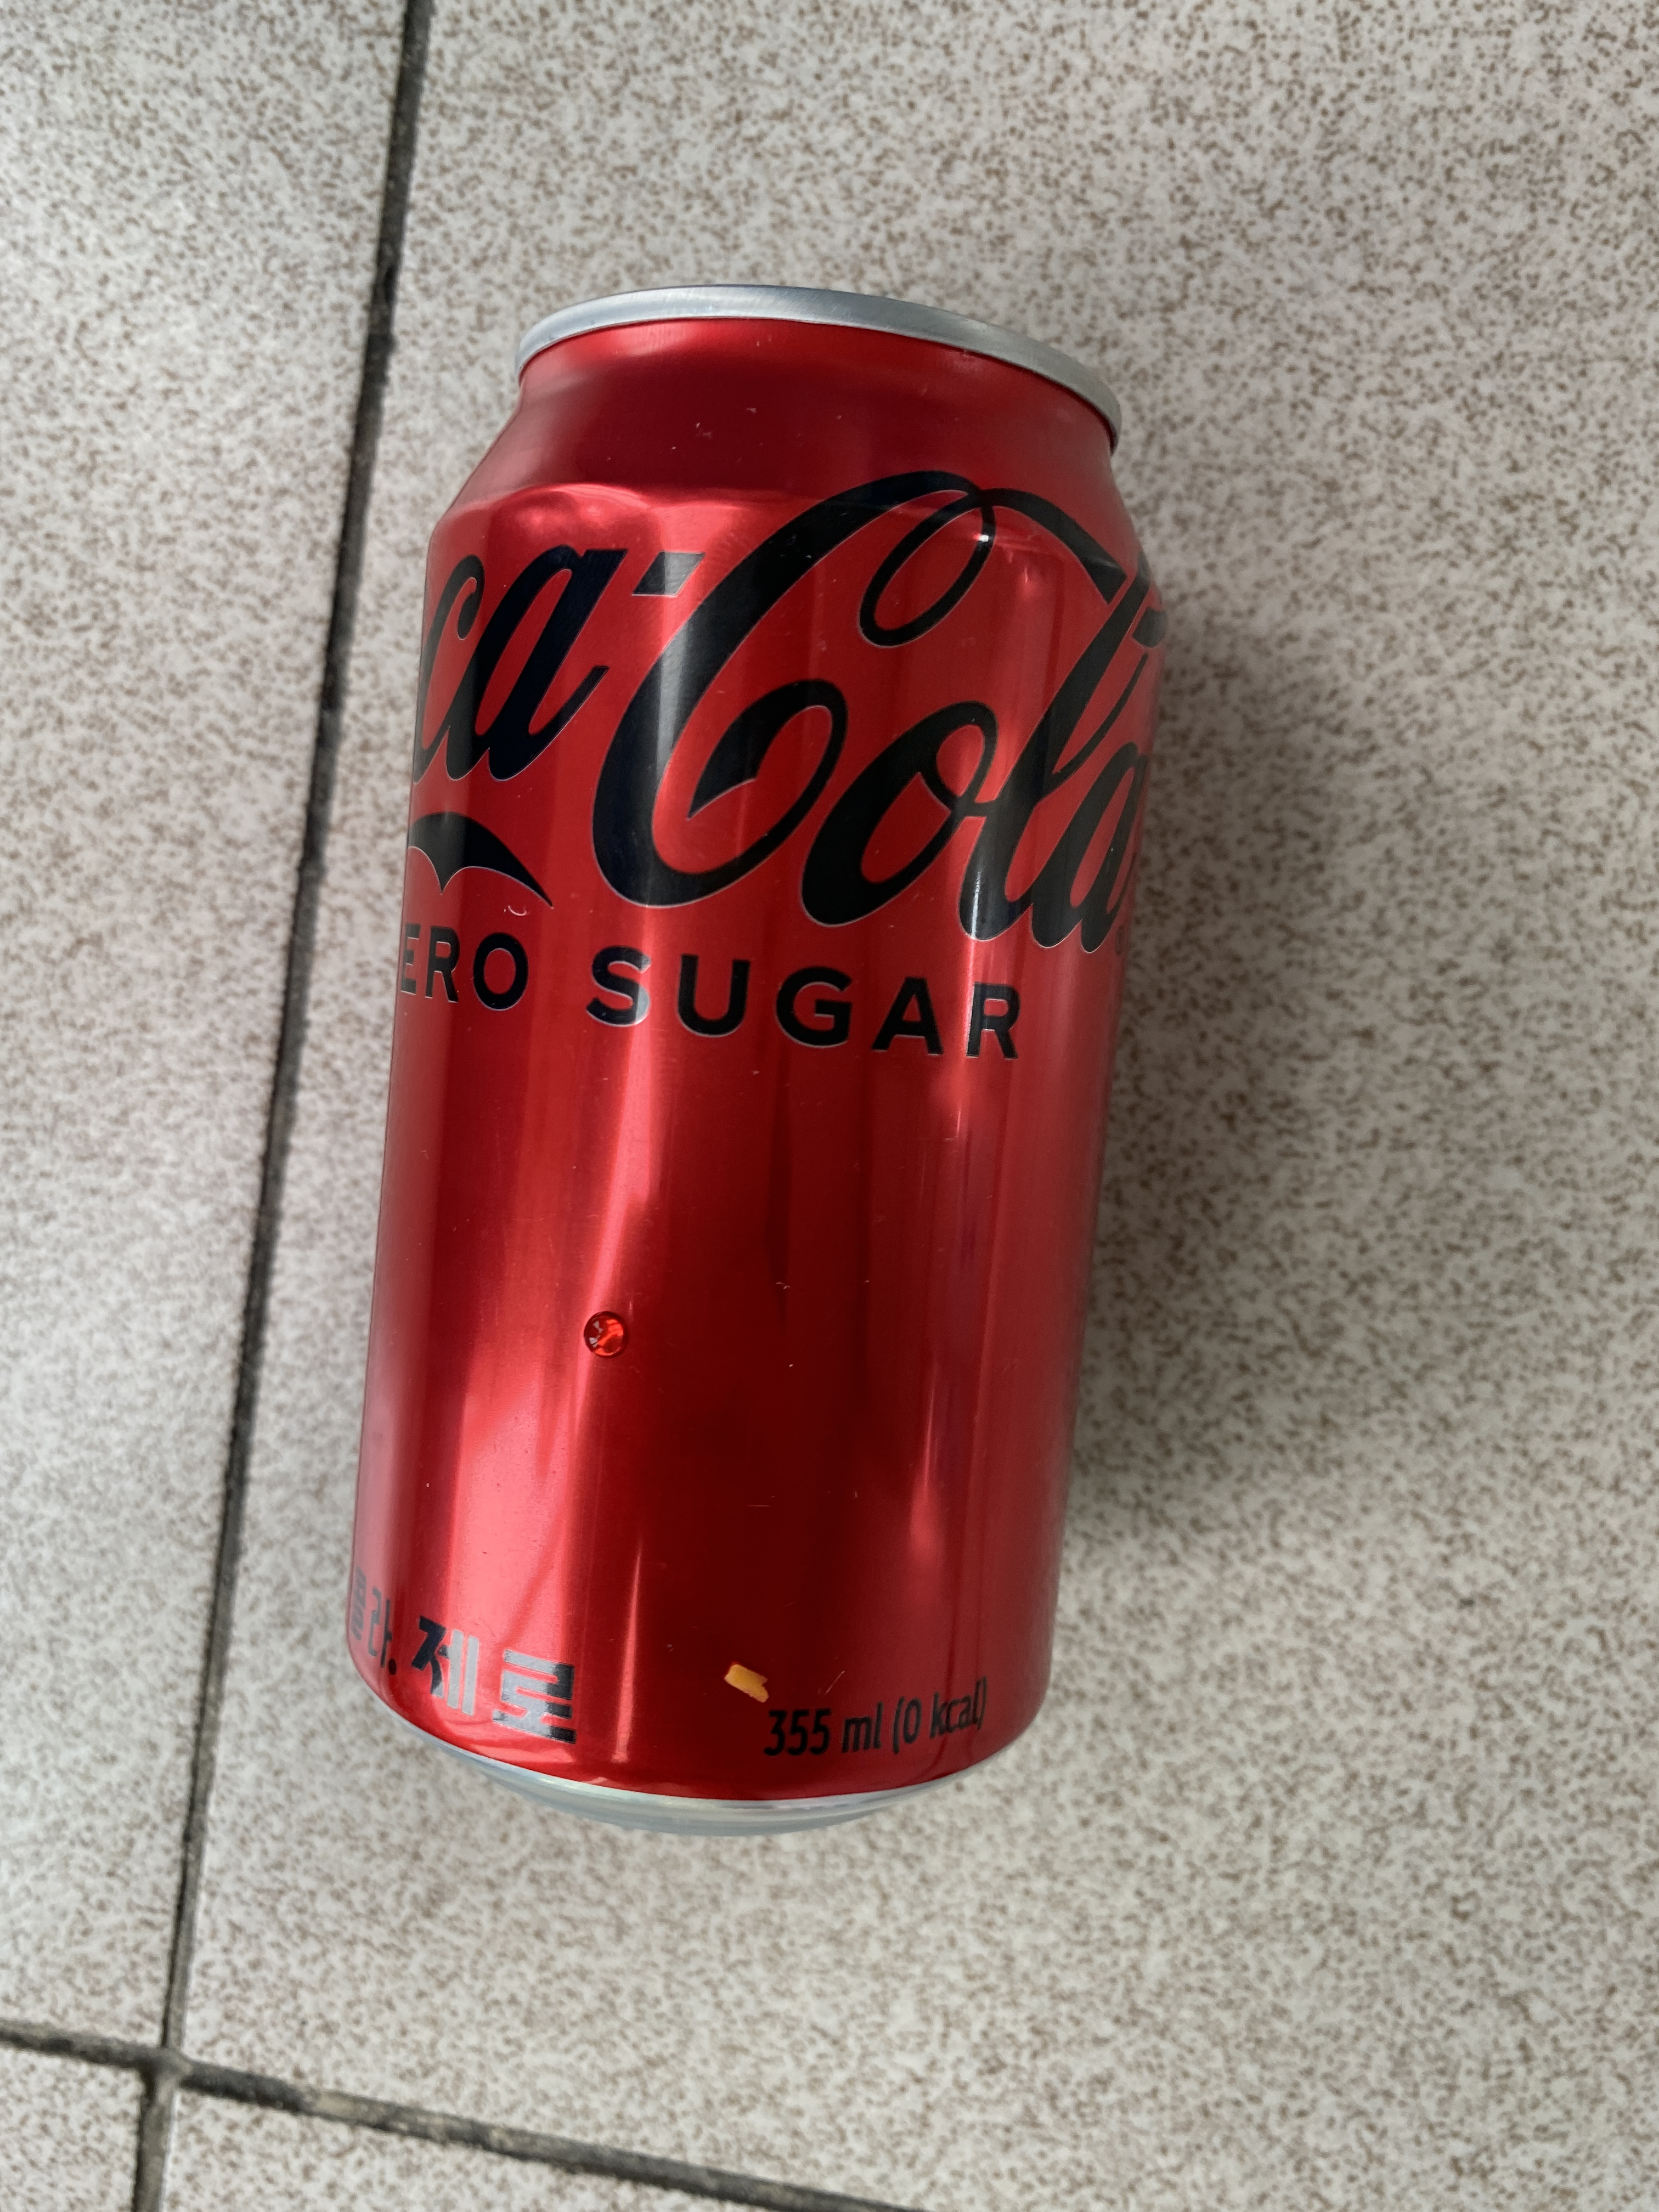metal: (317, 218, 1211, 1898)
